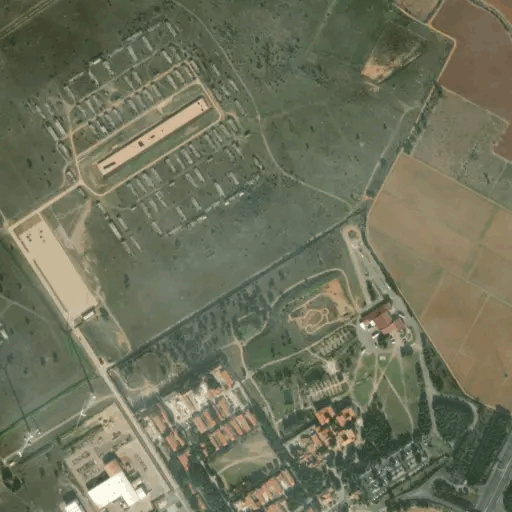wt: (53, 311, 104, 440), (3, 339, 45, 469)
